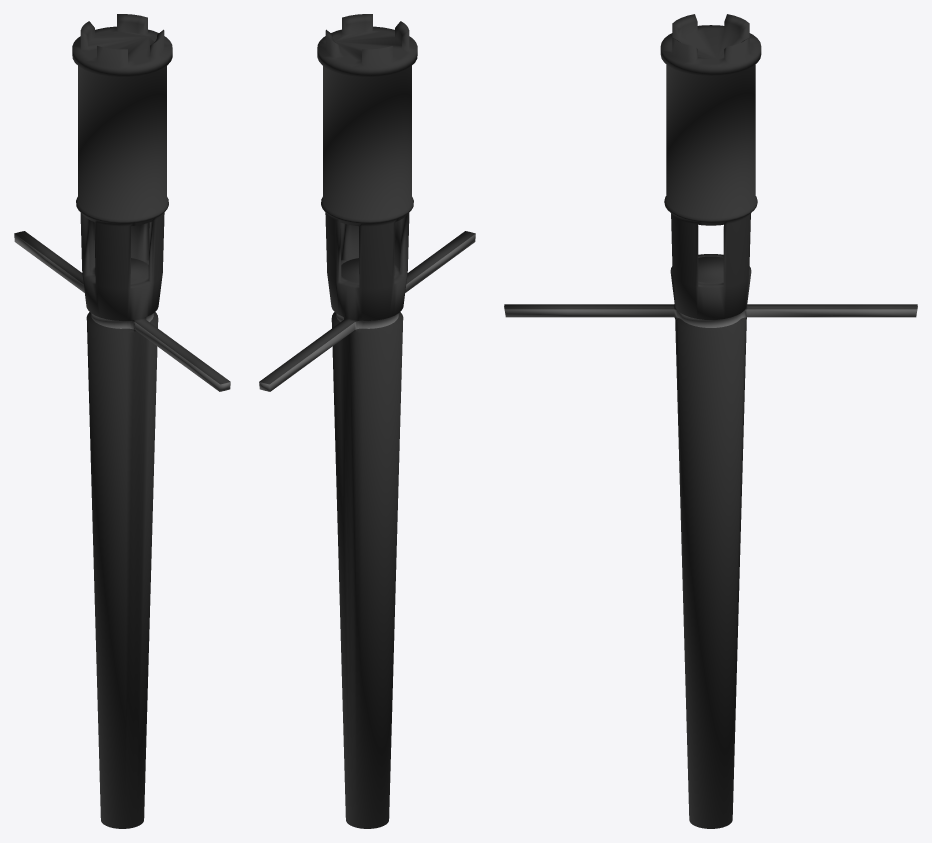
Rendered from TurningKickPole.fbx.
The picture shows the model from 3 angles, left to right: view 1: azimuth 30°, elevation 25°; view 2: azimuth 150°, elevation 25°; view 3: azimuth 270°, elevation 25°; orthographic projection.
Visible parts, largest first — view 1: pitTurningTrap; view 2: pitTurningTrap; view 3: pitTurningTrap.
Boxes of the visible parts, left/top/right/bottom form: pitTurningTrap: left=14, top=14, right=230, bottom=828; pitTurningTrap: left=259, top=14, right=475, bottom=828; pitTurningTrap: left=504, top=14, right=917, bottom=828.
Size of the model in its own units: 23.64 by 205 by 97.18.
